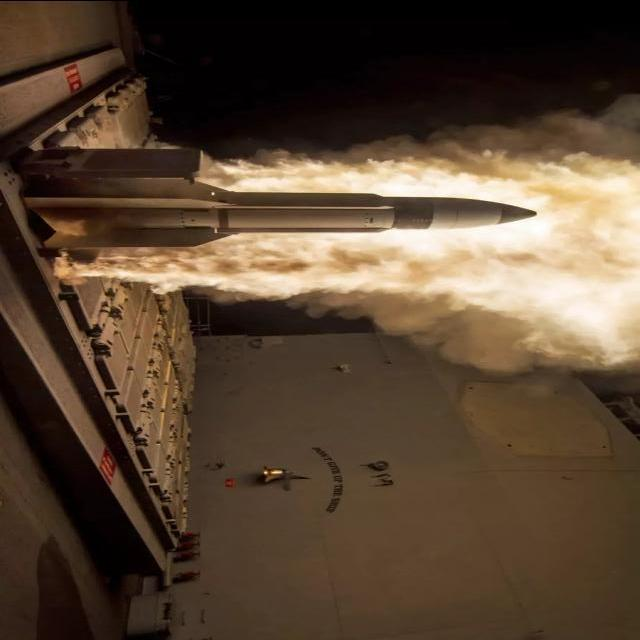missile: (21, 139, 538, 276)
